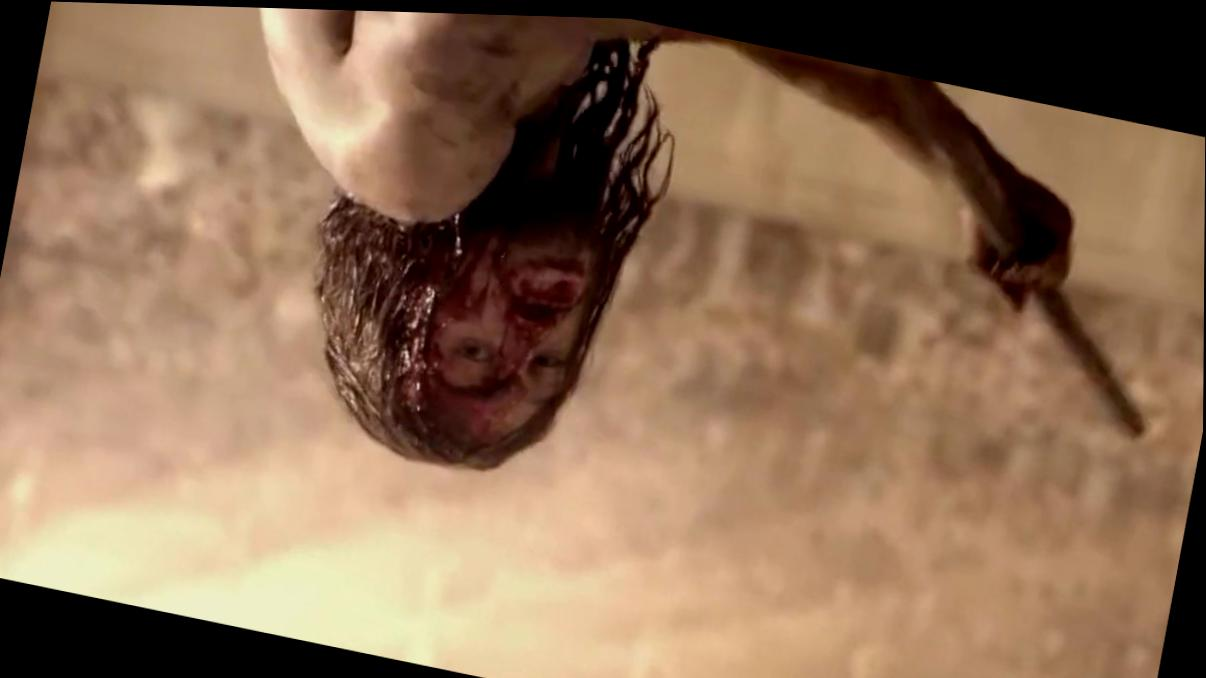Fire: (393, 218, 595, 439)
